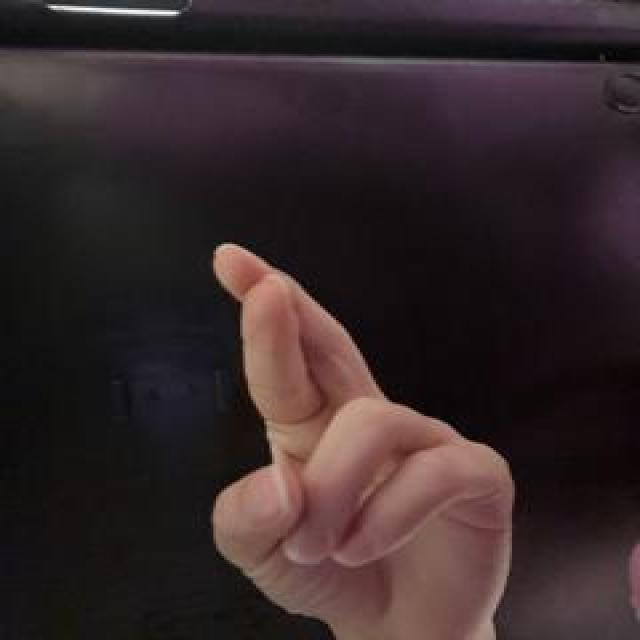R: (200, 236, 523, 640)
